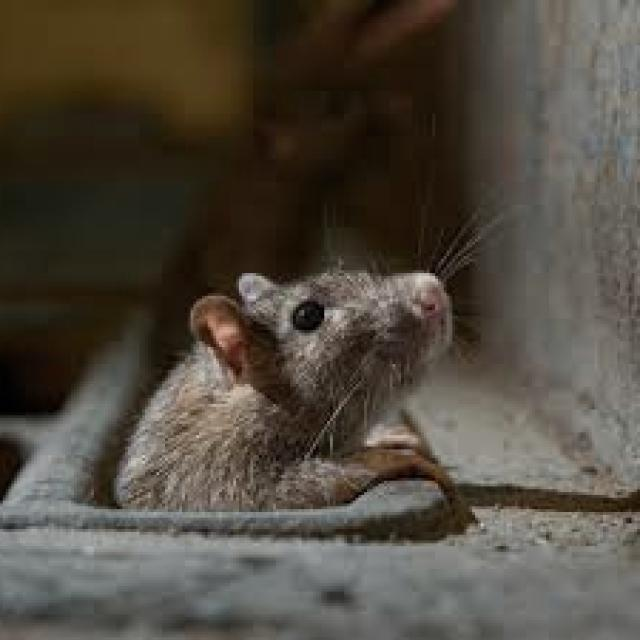rat: (117, 228, 486, 509)
